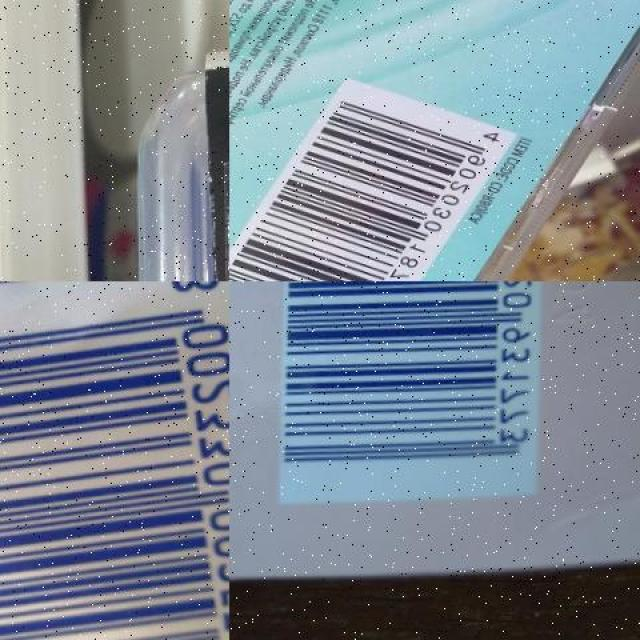Barcode: (0, 281, 229, 639), (269, 282, 548, 509), (229, 71, 520, 281)
